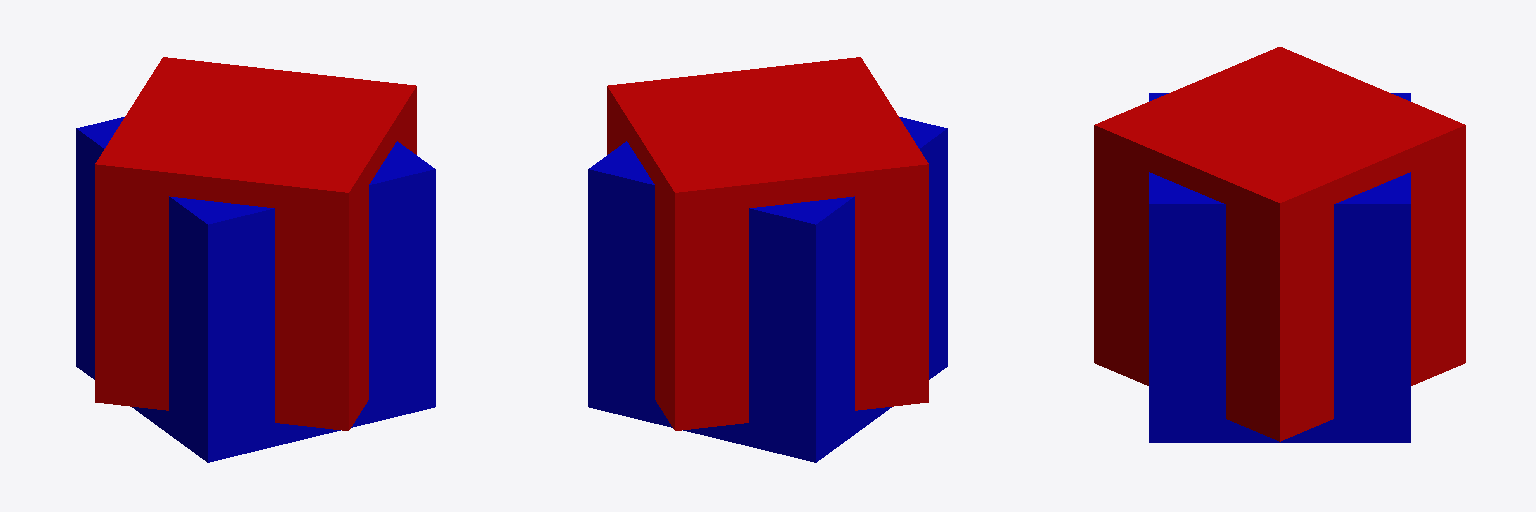
Rendered from double.obj.
The picture shows the model from 3 angles: view 1: azimuth 30°, elevation 25°; view 2: azimuth 150°, elevation 25°; view 3: azimuth 270°, elevation 25°; orthographic projection.
Visible parts, largest first — view 1: Top_Cube.001, Bottom_Cube; view 2: Top_Cube.001, Bottom_Cube; view 3: Top_Cube.001, Bottom_Cube.
Boxes of the visible parts, x1=… form: Top_Cube.001: x1=95, y1=57, x2=416, y2=430; Bottom_Cube: x1=76, y1=117, x2=435, y2=462; Top_Cube.001: x1=607, y1=57, x2=928, y2=430; Bottom_Cube: x1=588, y1=117, x2=947, y2=462; Top_Cube.001: x1=1094, y1=47, x2=1465, y2=441; Bottom_Cube: x1=1149, y1=93, x2=1410, y2=442.
Size of the model in its own units: 2.83 by 2.2 by 2.83.